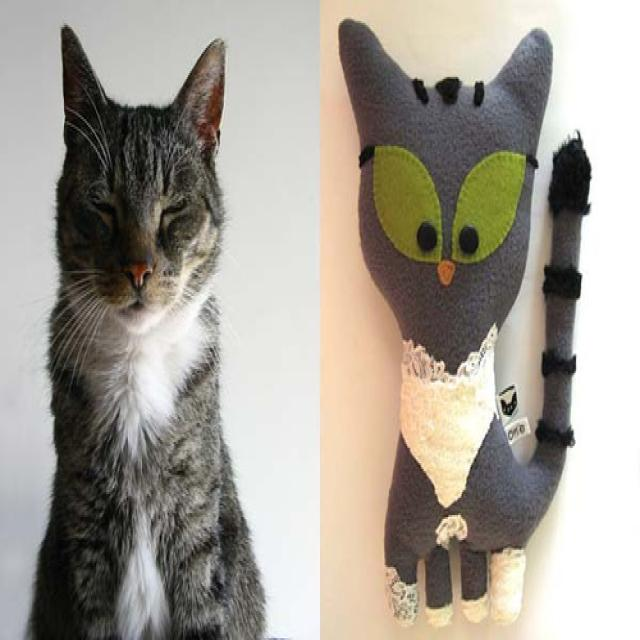cat: (23, 22, 270, 639)
